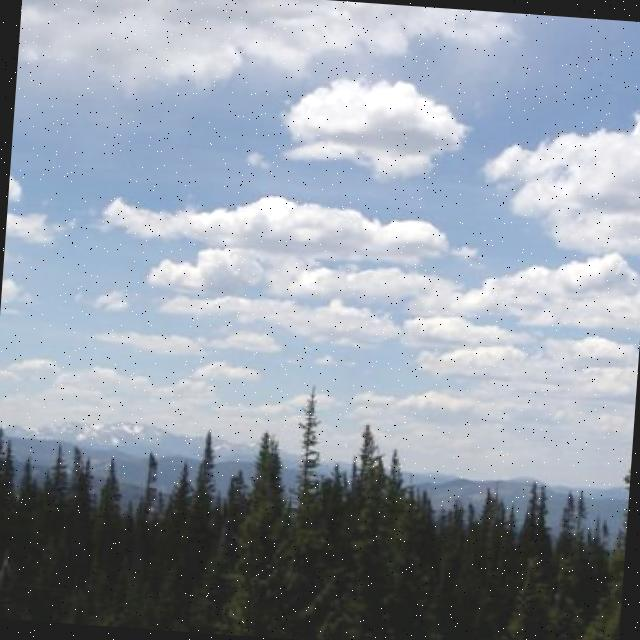Cu: (1, 21, 640, 410)
